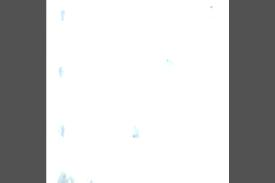bottle: (53, 46, 176, 101), (55, 0, 221, 35), (54, 106, 142, 156), (52, 159, 102, 183)
